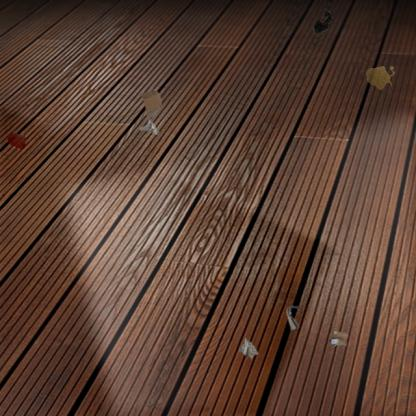dirty: (138, 88, 164, 121), (311, 8, 335, 36), (237, 336, 261, 361), (284, 304, 304, 332), (137, 117, 162, 137), (327, 330, 350, 349)
liquid: (364, 65, 396, 92), (6, 130, 28, 152)
